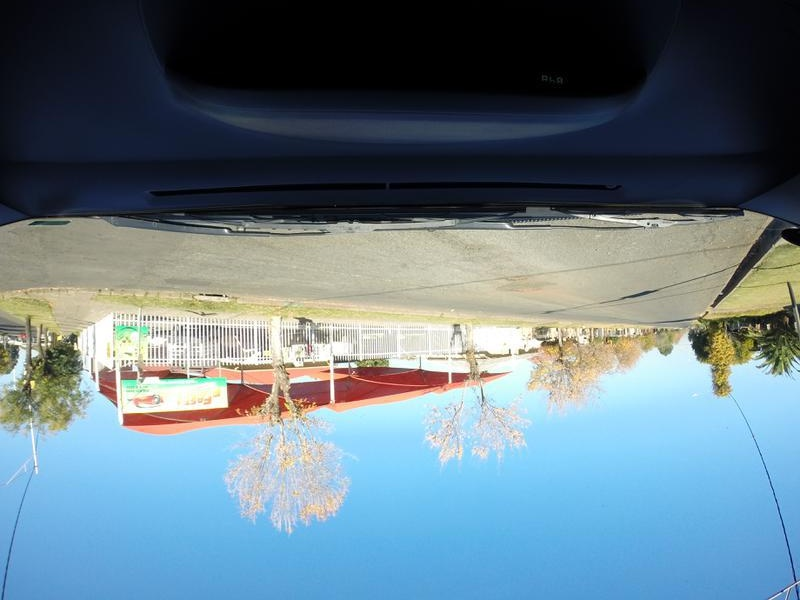pothole: (502, 271, 528, 278)
